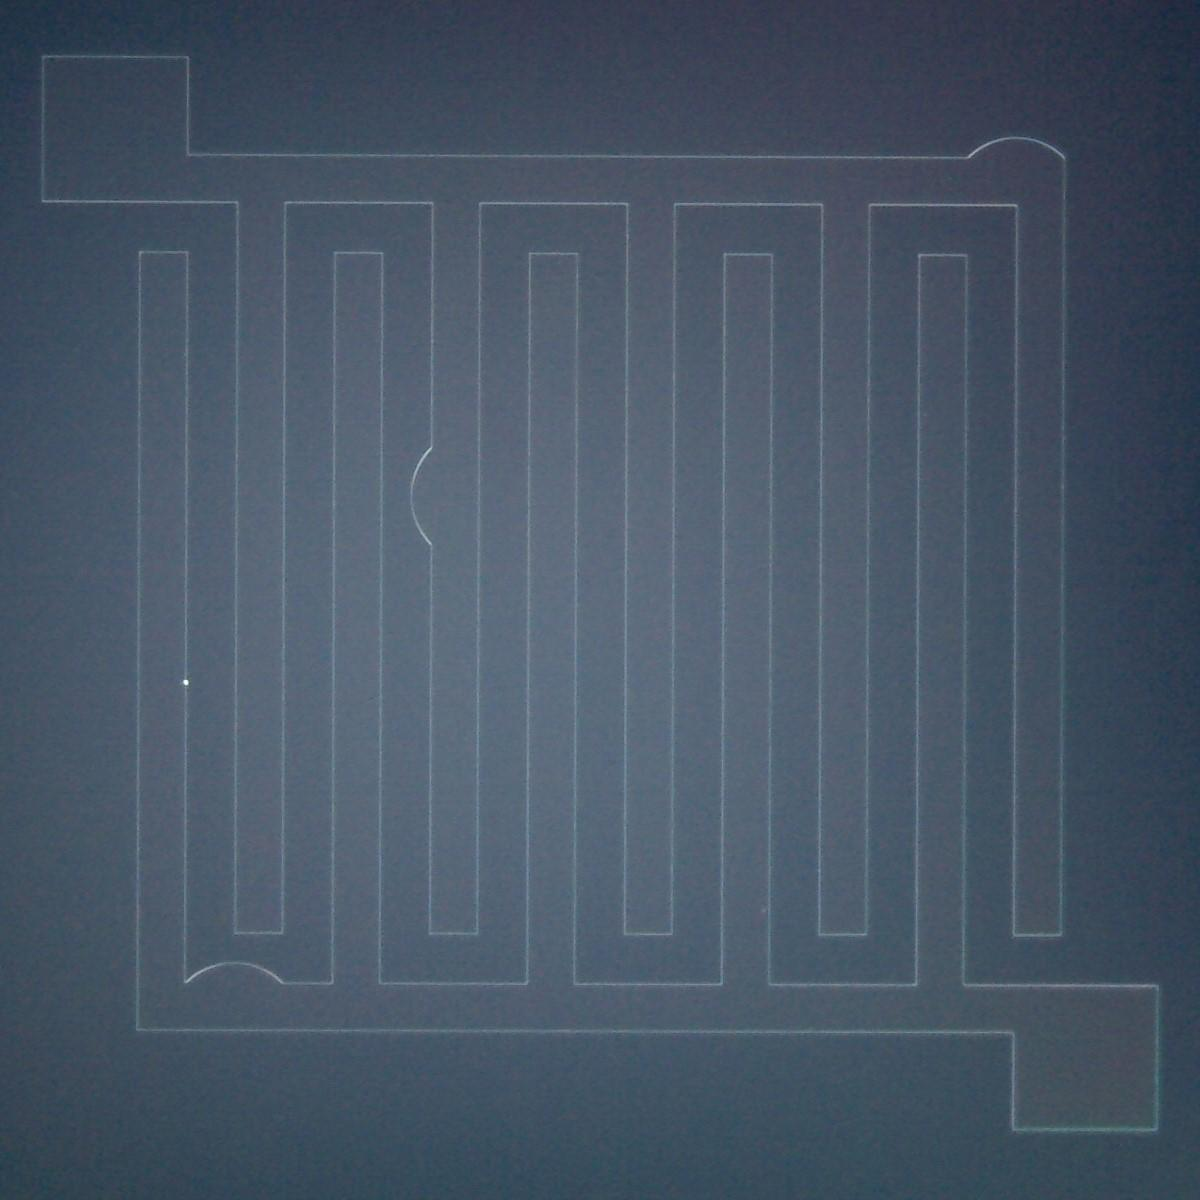project: (162, 943, 300, 1011), (400, 424, 465, 564), (953, 126, 1087, 193)
s_point: (758, 904, 770, 916), (180, 677, 192, 688)
